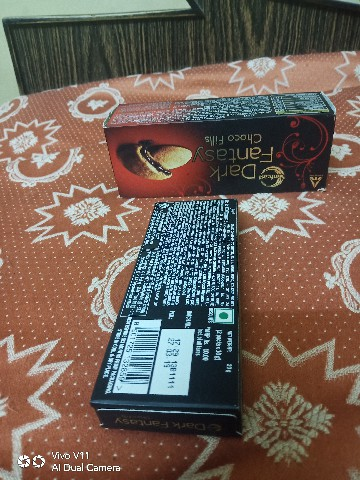darkfantasy big: (97, 89, 338, 198)
darkfantasy small: (74, 196, 262, 439)
